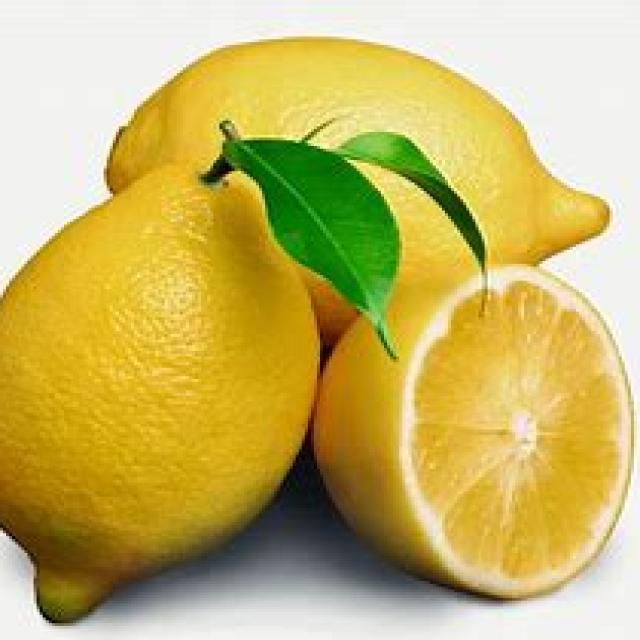lemon: (0, 139, 334, 640), (90, 29, 622, 330), (309, 262, 640, 610)
